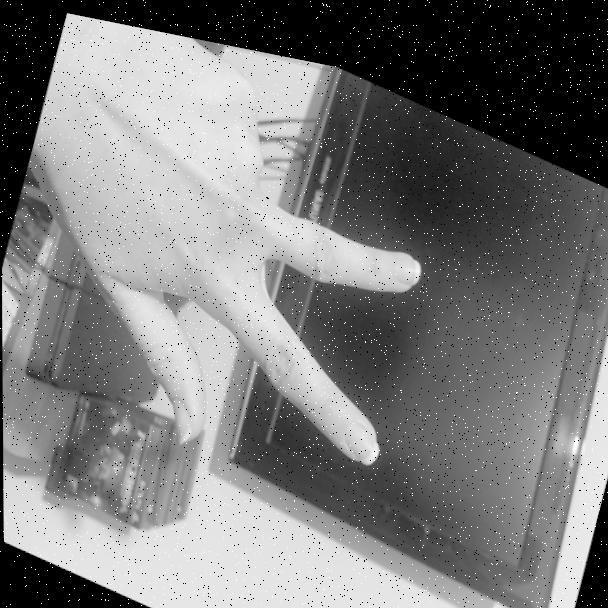three: (29, 5, 465, 520)
